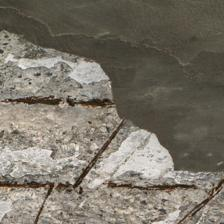Crack: (8, 7, 220, 70)
